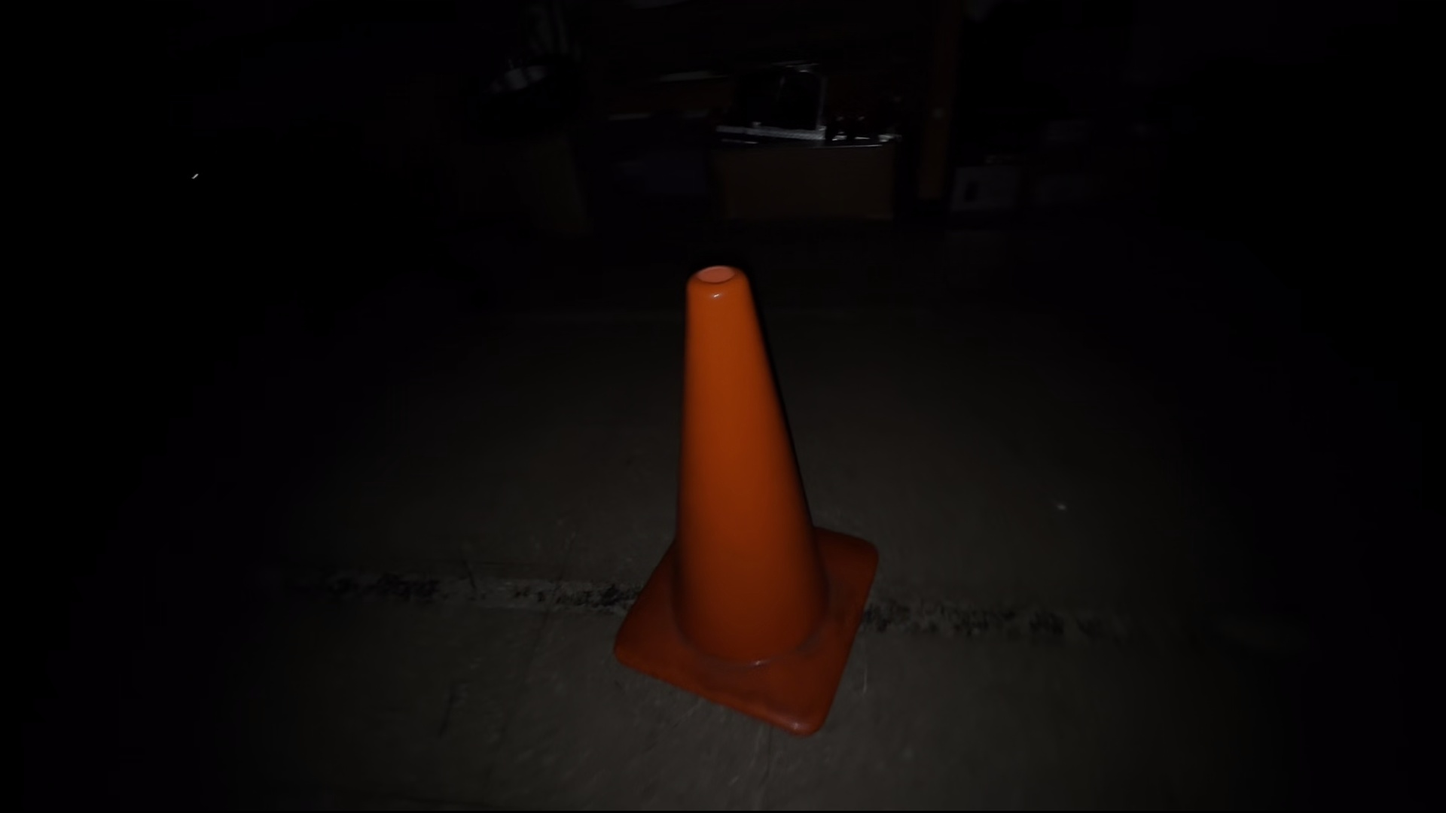traffic_cone: (611, 263, 879, 736)
